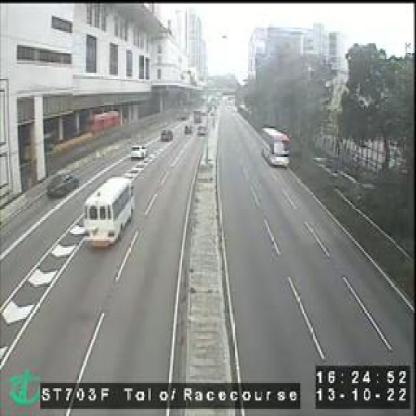Car: (48, 171, 80, 198), (129, 143, 147, 161), (162, 128, 173, 141), (184, 124, 192, 135)
Minibus: (83, 173, 133, 250)
Truck: (262, 125, 290, 169)
